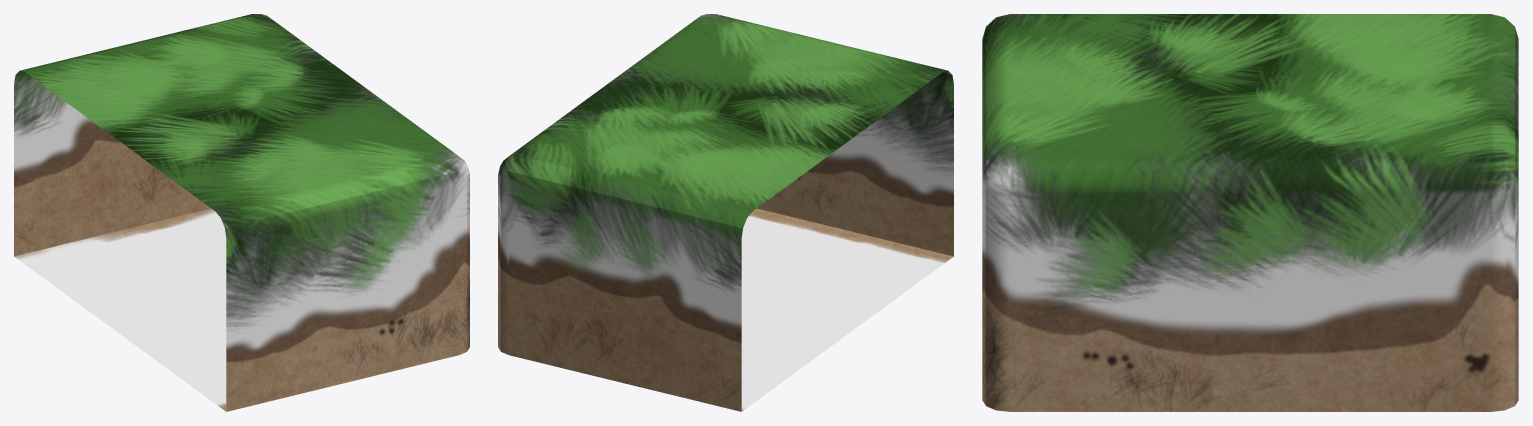
File: longPlatformRight.fbx
3 views of the same model, side by side, from view 1: azimuth 30°, elevation 25°; view 2: azimuth 150°, elevation 25°; view 3: azimuth 270°, elevation 25° (orthographic). The views are drawn at different scales.
Visible parts, largest first — view 1: longPlatformRight; view 2: longPlatformRight; view 3: longPlatformRight.
Part boxes in pixels (x1,y1,x2,y2): longPlatformRight: [14, 14, 469, 411]; longPlatformRight: [498, 14, 953, 411]; longPlatformRight: [982, 14, 1518, 411].
Bounding box in the file's own units: 34.19 × 25 × 50.
Materials: 1 (1 with a texture image).
